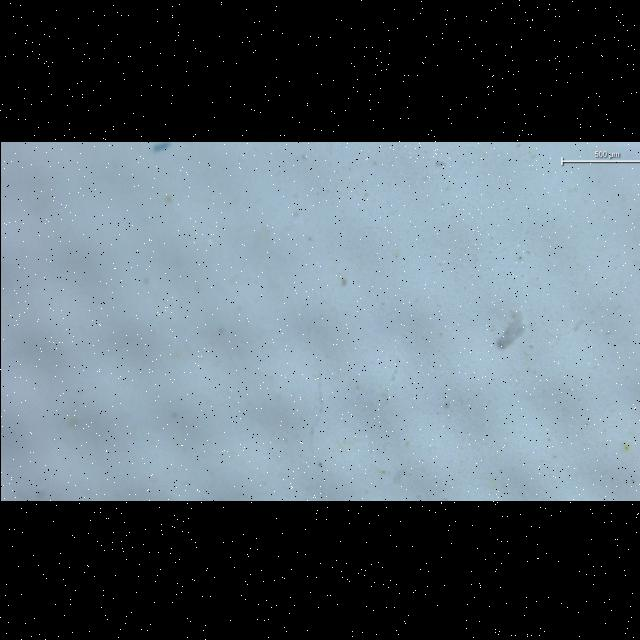Fibre: (152, 140, 170, 150)
Fragment: (497, 310, 524, 347)
